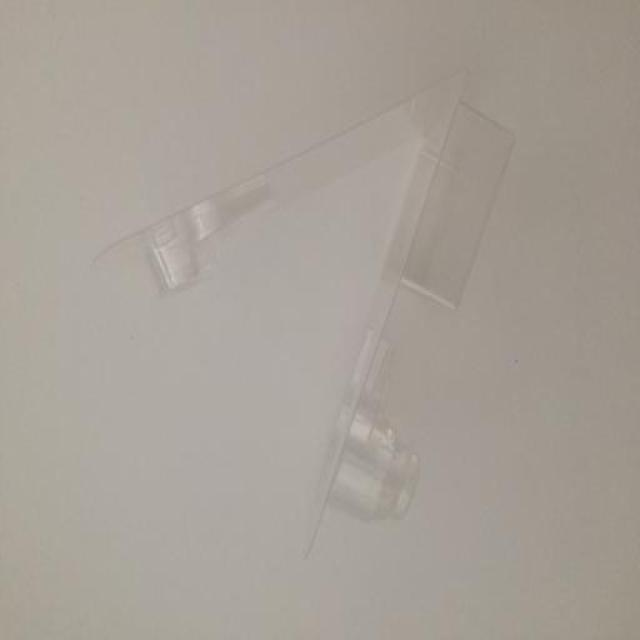plastic: (89, 68, 515, 557)
